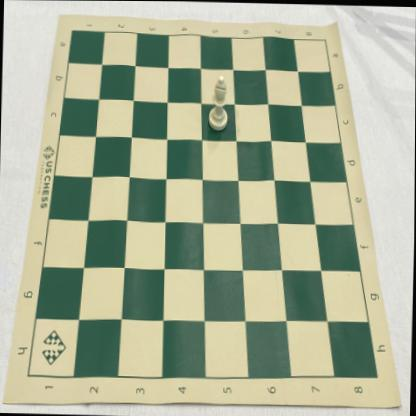white-bishop: (208, 74, 229, 131)
